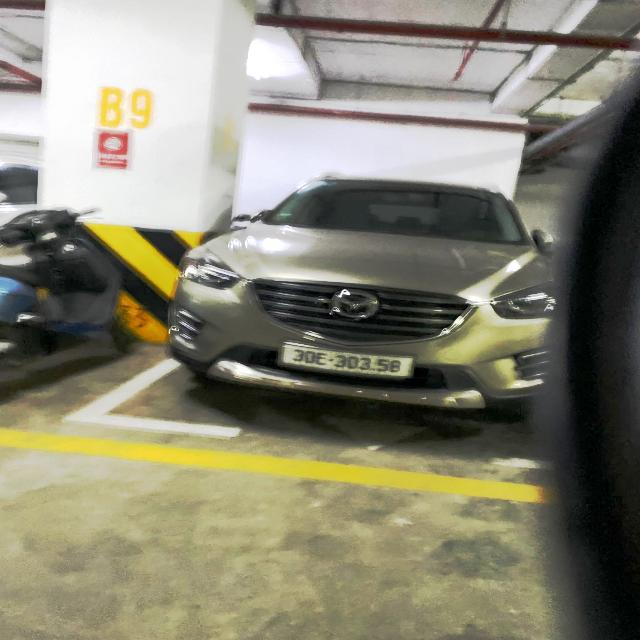license_plate: (278, 340, 418, 380)
